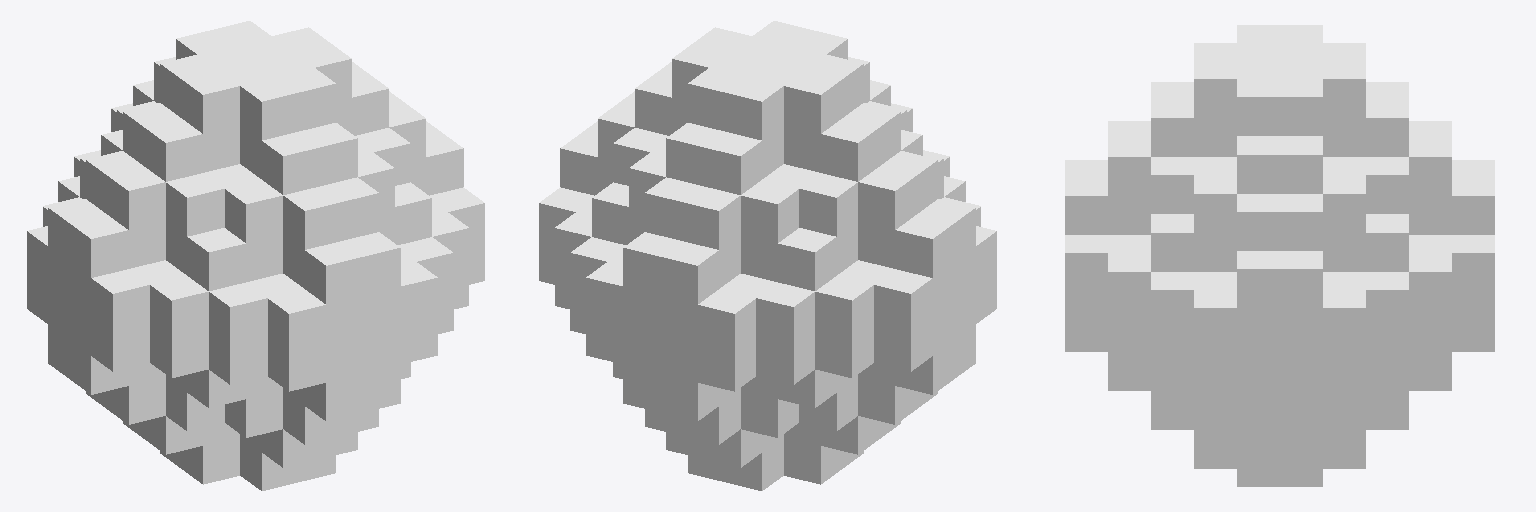
The model's file is Shot.obj.
3 views of the same model, side by side, from view 1: azimuth 30°, elevation 25°; view 2: azimuth 150°, elevation 25°; view 3: azimuth 270°, elevation 25° (orthographic).
Visible parts, largest first — view 1: object 1; view 2: object 1; view 3: object 1.
Part boxes in pixels (x1,y1,x2,y2): object 1: (27, 21, 484, 490); object 1: (539, 21, 996, 490); object 1: (1065, 25, 1494, 486).
Bounding box in the file's own units: 1 × 1 × 1.